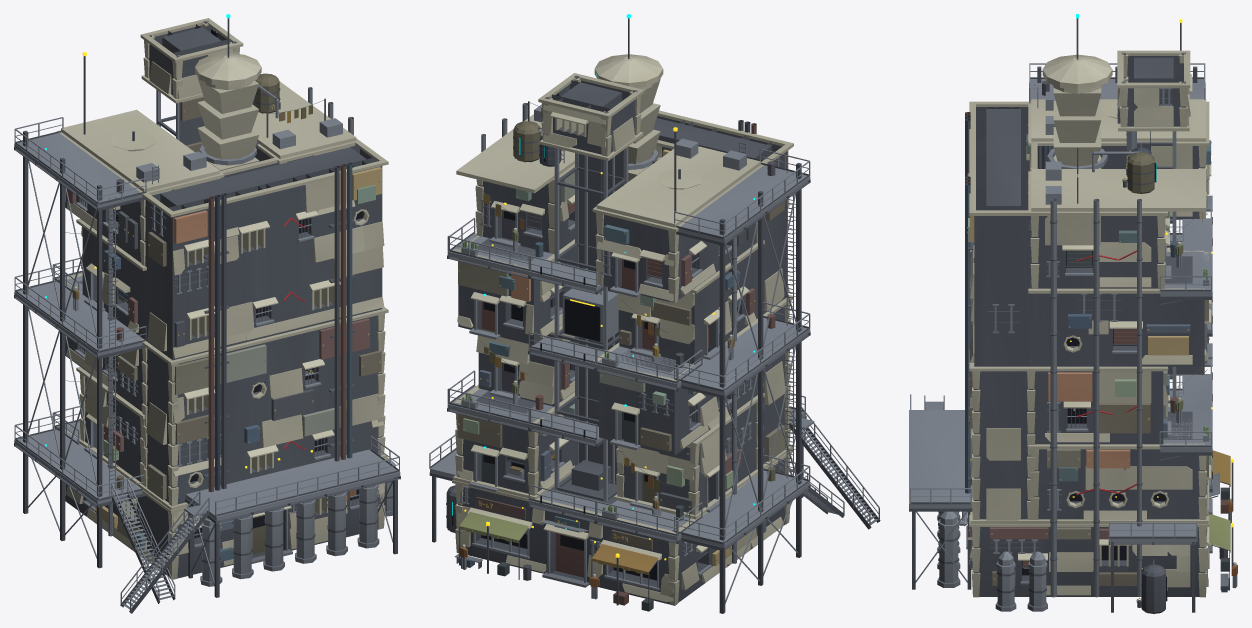
Rendered from service_tenement.glb.
The picture shows the model from 3 angles, left to right: view 1: azimuth 30°, elevation 25°; view 2: azimuth 150°, elevation 25°; view 3: azimuth 270°, elevation 25°; orthographic projection. The views are drawn at different scales.
Parts seen in each view (by area): view 1: service_tenement; view 2: service_tenement; view 3: service_tenement.
Part boxes in pixels (<box>): service_tenement: <box>14,14,400,613</box>; service_tenement: <box>429,14,880,613</box>; service_tenement: <box>909,14,1237,613</box>.
Bounding box in the file's own units: 23.73 × 36.81 × 20.69.
